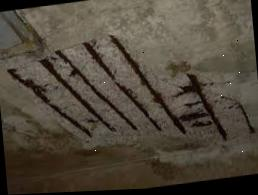exposed_rebar: (110, 34, 186, 133), (55, 50, 137, 129), (8, 68, 92, 136), (40, 57, 116, 131), (173, 73, 227, 139), (114, 80, 161, 129), (221, 95, 255, 132), (83, 41, 115, 79), (190, 119, 212, 126), (228, 105, 234, 107)
spalling: (6, 33, 258, 146)
